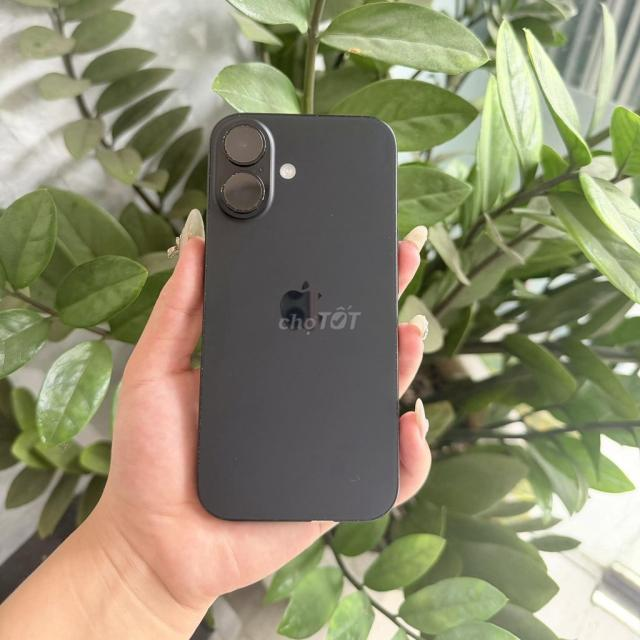gen_16: (184, 104, 408, 528)
scratch: (212, 116, 270, 169), (219, 172, 269, 220)
